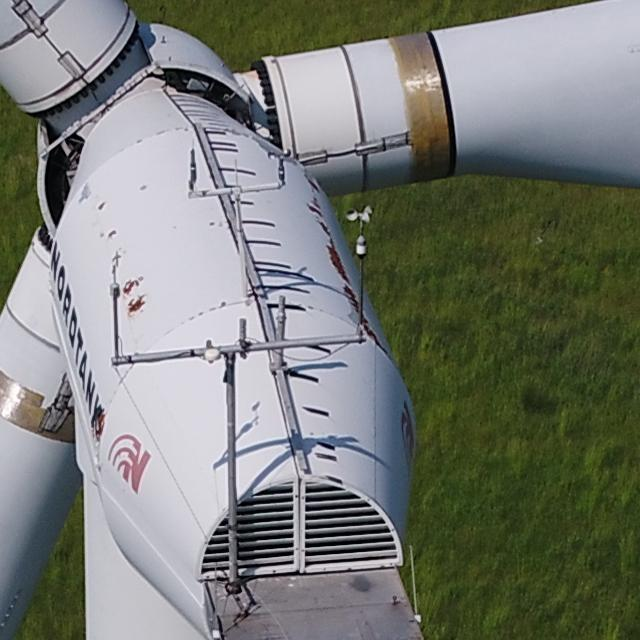damage: (323, 243, 354, 287), (359, 321, 392, 359), (125, 290, 149, 318), (91, 406, 108, 442), (343, 283, 362, 314), (122, 277, 141, 299), (75, 182, 91, 205), (303, 203, 324, 218), (306, 177, 321, 196), (316, 220, 331, 237), (111, 251, 121, 267), (105, 229, 116, 241), (97, 201, 105, 214), (138, 182, 147, 192)
